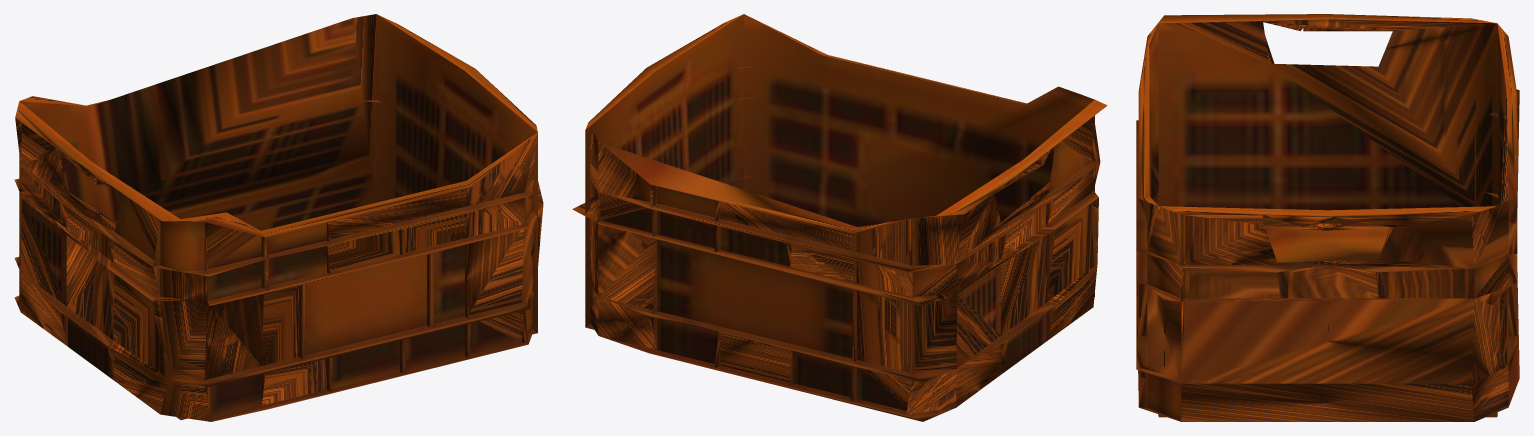
File: crate_plastic.glb
3 views of the same model, side by side, from view 1: azimuth 30°, elevation 25°; view 2: azimuth 150°, elevation 25°; view 3: azimuth 270°, elevation 25° (orthographic). The views are drawn at different scales.
Parts seen in each view (by area): view 1: crate_plastic; view 2: crate_plastic; view 3: crate_plastic.
Boxes of the visible parts, box(x1,y1,x2,y2) form: crate_plastic: box(14, 14, 543, 421); crate_plastic: box(572, 14, 1107, 421); crate_plastic: box(1136, 14, 1519, 421).
Bounding box in the file's own units: 0.5052 × 0.25 × 0.4055.
Materials: 1 (1 with a texture image).
